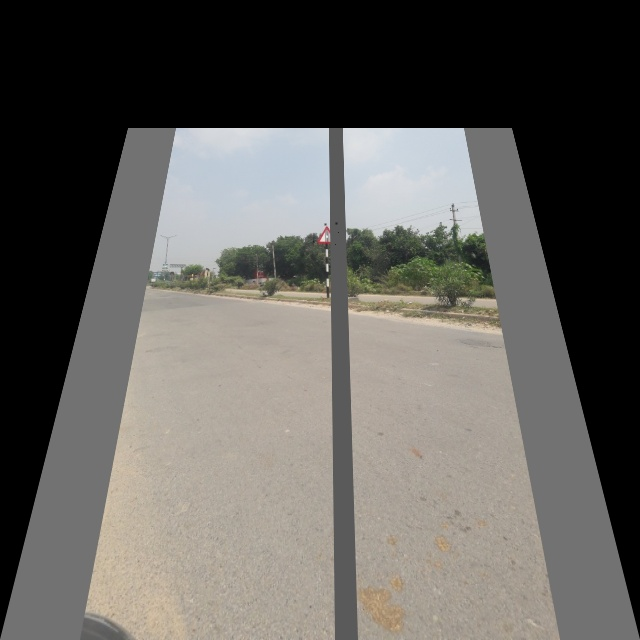Gap_in_Median: (313, 222, 342, 246)
